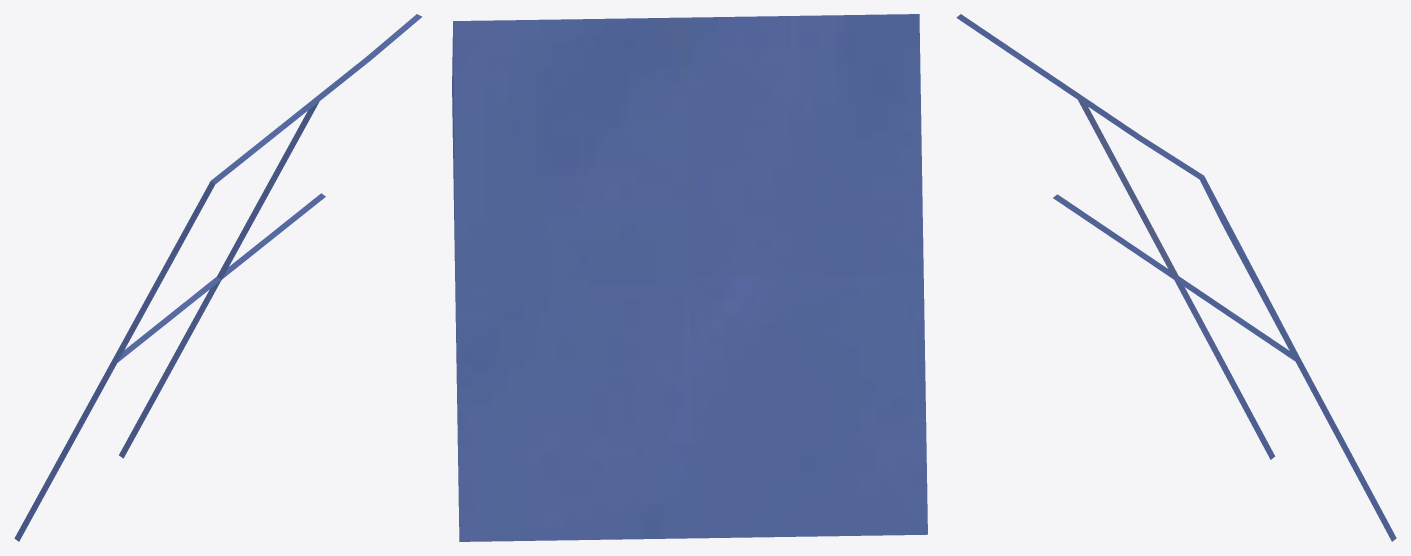
The picture shows the model from 3 angles, left to right: view 1: azimuth 30°, elevation 25°; view 2: azimuth 150°, elevation 25°; view 3: azimuth 270°, elevation 25°; orthographic projection. The views are drawn at different scales.
Size of the model in its own units: 19693 by 17670 by 16998.
1 material, 1 textured.
